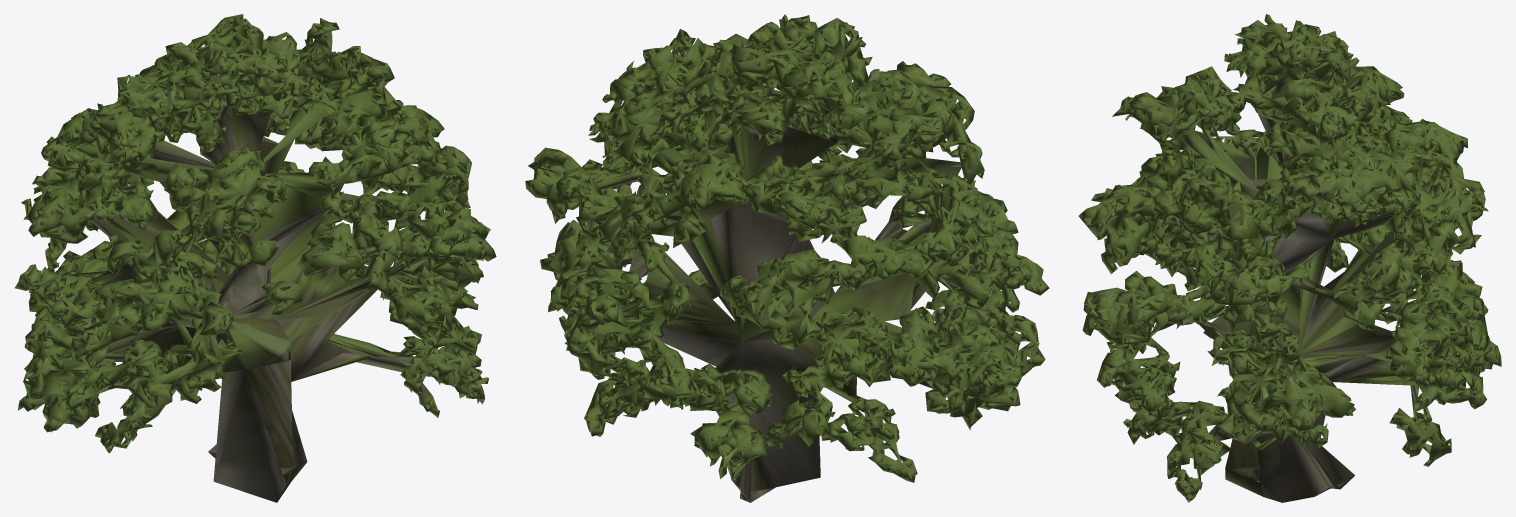
The model's file is oak.glb.
3 renders of one model, left to right at view 1: azimuth 30°, elevation 25°; view 2: azimuth 150°, elevation 25°; view 3: azimuth 270°, elevation 25°, orthographic. The views are drawn at different scales.
Visible parts, largest first — view 1: oak; view 2: oak; view 3: oak.
Boxes of the visible parts, box(x1,y1,x2,y2) form: oak: box(14, 14, 496, 502); oak: box(525, 14, 1049, 502); oak: box(1078, 14, 1501, 502).
Size of the model in its own units: 1.03 by 1 by 0.8559.
Materials: 1 (1 with a texture image).
